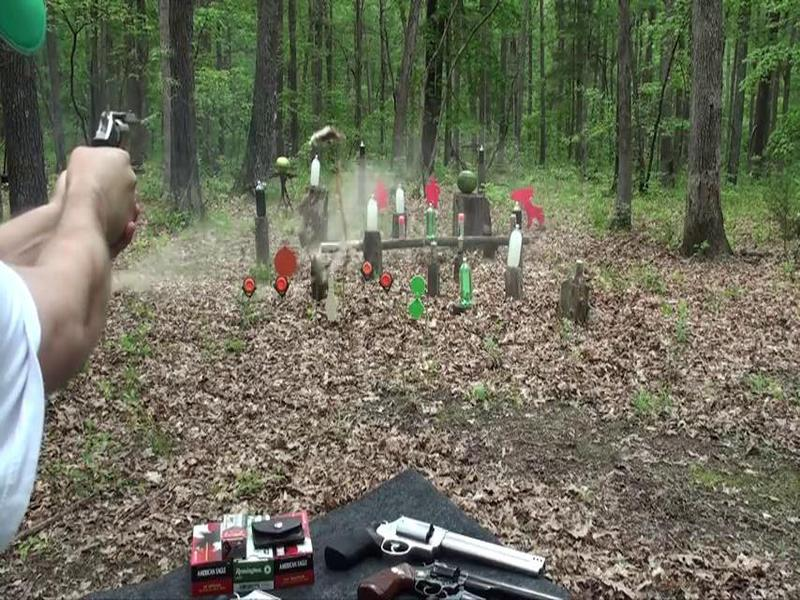Revolver: (68, 99, 140, 159)
